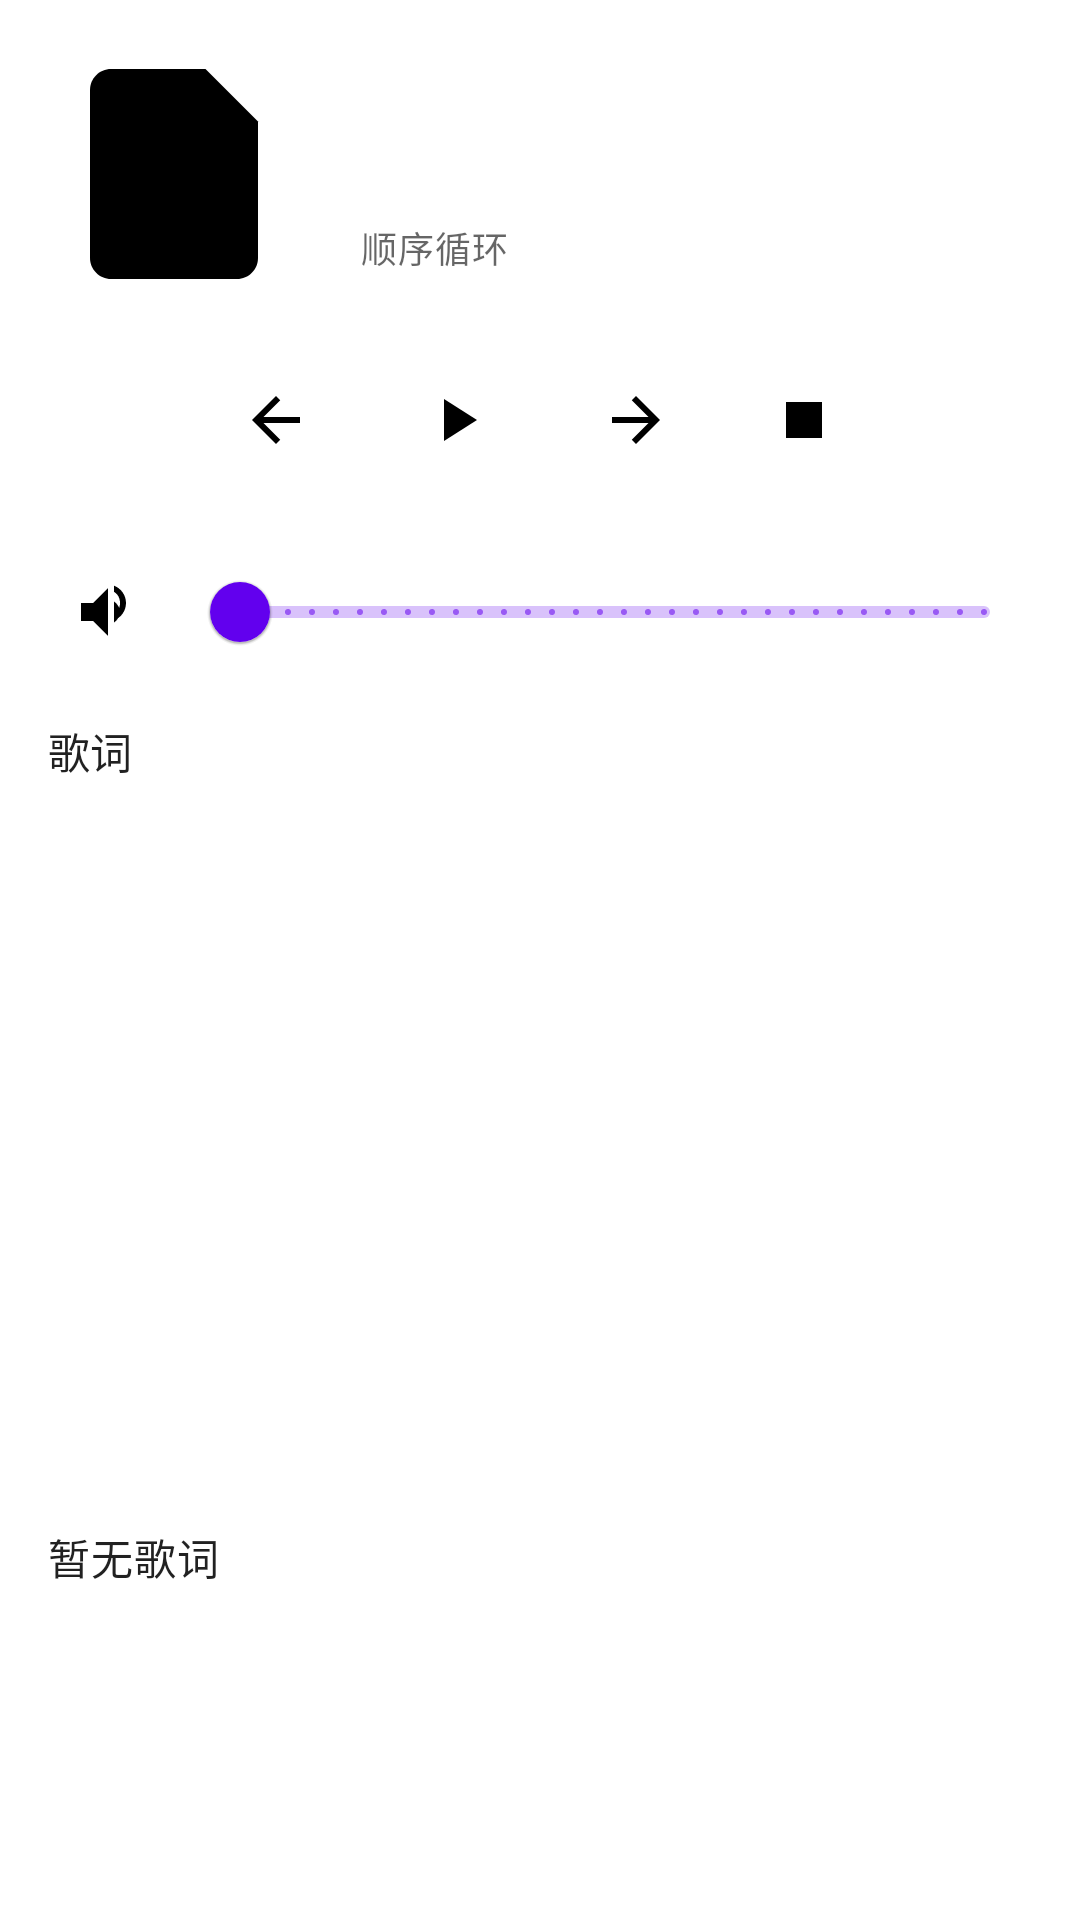

Where icons sit on this 1080px x 1920px app screen, as {"x1": x1, "y1": y1, "x2": x2, "y2": y2}:
上一首: {"x1": 252, "y1": 396, "x2": 300, "y2": 444}
下一首: {"x1": 612, "y1": 396, "x2": 660, "y2": 444}
播放/暂停: {"x1": 444, "y1": 399, "x2": 477, "y2": 441}
静音: {"x1": 81, "y1": 585, "x2": 126, "y2": 636}
